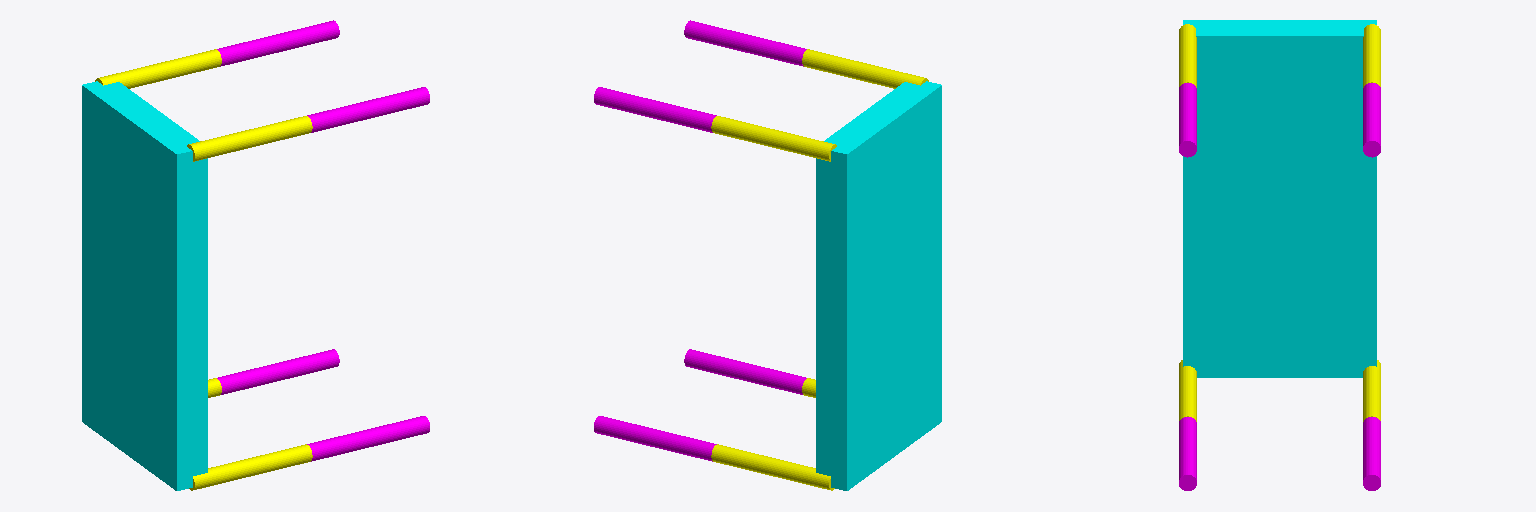
The robot description file, URDF, robot "2_R_robot":
<!-- [author], 20095107 -->

<robot name="2_R_robot">

<material name="blue">
   <color rgba="0 0 0.8 1"/>
</material>
<material name="black">
   <color rgba="0 0 0 1"/>
</material>
<material name="white">
   <color rgba="1 1 1 1"/>
</material>
<material name="olive">
   <color rgba="128 128 0 0.9"/>
</material>
<material name="fuchsia">
   <color rgba="255 0 255 0.7"/>
</material>
<material name="aqua">
   <color rgba="0 255 255 1"/>
</material>
<material name="teal">
   <color rgba="0 128 128 1"/>
</material>

   <link name="fixed_base">
   <visual>
      <origin rpy = "0 0 0" xyz = "0 1 2"/>
      <geometry>
         <box size ="0.4 2.1 4.1" />
      </geometry>
      <material name="teal"/>
   </visual>
   </link>
   
   <link name="link_1">
      <!-- <axis xyz="0 0 1"/> -->
      <visual>
         <origin rpy="0 1.57 0" xyz="0.75 0 0"/>
         <geometry>
            <cylinder radius="0.1" length="1.5"/>
         </geometry>
         <material name="olive"/>         
      </visual>
   </link>       
   
   <joint name="Revolute_joint_1" type="revolute">
      <visual>
         <material name="blue"/>
      </visual>
      <axis xyz="0 1 0"/>
      <limit effort="1000.0" lower="-1.22" upper="1.22" velocity="0.5"/>
      <origin rpy="0 0 0" xyz="0 0 0" />
      <parent link="fixed_base"/>
      <child link="link_1"/>
   </joint>

   <link name="link_2">
      <!-- <axis xyz="0 0 1"/> -->
      <visual>
         <origin rpy="0 1.57 0" xyz="0.75 0 0"/>
         <geometry>
            <cylinder radius="0.1" length="1.5"/>
         </geometry>
         <material name="fuchsia"/>         
      </visual>
   </link> 

   <joint name="Revolute_joint_2" type="revolute">
      <visual>
         <material name="blue"/>
      </visual>
      <axis xyz="0 1 0"/>
      <limit effort="1000.0" lower="0" upper="1.57" velocity="0.5"/>
      <origin rpy="0 0 0" xyz="1.5 0 0" />
      <parent link="link_1"/>
      <child link="link_2"/>
   </joint>

<!-- ............................................................................ -->

   <link name="link_3">
      <!-- <axis xyz="0 0 1"/> -->
      <visual>
         <origin rpy="0 1.57 0" xyz="0.75 0 0"/>
         <geometry>
            <cylinder radius="0.1" length="1.5"/>
         </geometry>
         <material name="olive"/>         
      </visual>
   </link>       
   
   <joint name="Revolute_joint_3" type="revolute">
      <visual>
         <material name="blue"/>
      </visual>
      <axis xyz="0 1 0"/>
      <limit effort="1000.0" lower="-1.22" upper="1.22" velocity="0.5"/>
      <origin rpy="0 0 0" xyz="0 0 4" />
      <parent link="fixed_base"/>
      <child link="link_3"/>
   </joint>

   <link name="link_4">
      <!-- <axis xyz="0 0 1"/> -->
      <visual>
         <origin rpy="0 1.57 0" xyz="0.75 0 0"/>
         <geometry>
            <cylinder radius="0.1" length="1.5"/>
         </geometry>
         <material name="fuchsia"/>         
      </visual>
   </link> 

   <joint name="Revolute_joint_4" type="revolute">
      <visual>
         <material name="blue"/>
      </visual>
      <axis xyz="0 1 0"/>
      <limit effort="1000.0" lower="0" upper="1.57" velocity="0.5"/>
      <origin rpy="0 0 0" xyz="1.5 0 0" />
      <parent link="link_3"/>
      <child link="link_4"/>
   </joint>
<!-- .................................................................................. -->
   
   <link name="link_5">
      <!-- <axis xyz="0 0 1"/> -->
      <visual>
         <origin rpy="0 1.57 0" xyz="0.75 0 0"/>
         <geometry>
            <cylinder radius="0.1" length="1.5"/>
         </geometry>
         <material name="olive"/>         
      </visual>
   </link>       
   
   <joint name="Revolute_joint_5" type="revolute">
      <visual>
         <material name="blue"/>
      </visual>
      <axis xyz="0 1 0"/>
      <limit effort="1000.0" lower="-1.22" upper="1.22" velocity="0.5"/>
      <origin rpy="0 0 0" xyz="0 2 0" />
      <parent link="fixed_base"/>
      <child link="link_5"/>
   </joint>

   <link name="link_6">
      <!-- <axis xyz="0 0 1"/> -->
      <visual>
         <origin rpy="0 1.57 0" xyz="0.75 0 0"/>
         <geometry>
            <cylinder radius="0.1" length="1.5"/>
         </geometry>
         <material name="fuchsia"/>         
      </visual>
   </link> 

   <joint name="Revolute_joint_6" type="revolute">
      <visual>
         <material name="blue"/>
      </visual>
      <axis xyz="0 1 0"/>
      <limit effort="1000.0" lower="0" upper="1.57" velocity="0.5"/>
      <origin rpy="0 0 0" xyz="1.5 0 0" />
      <parent link="link_5"/>
      <child link="link_6"/>
   </joint>

<!-- ............................................................................ -->

   <link name="link_7">
      <!-- <axis xyz="0 0 1"/> -->
      <visual>
         <origin rpy="0 1.57 0" xyz="0.75 0 0"/>
         <geometry>
            <cylinder radius="0.1" length="1.5"/>
         </geometry>
         <material name="olive"/>         
      </visual>
   </link>       
   
   <joint name="Revolute_joint_7" type="revolute">
      <visual>
         <material name="blue"/>
      </visual>
      <axis xyz="0 1 0"/>
      <limit effort="1000.0" lower="-1.22" upper="1.22" velocity="0.5"/>
      <origin rpy="0 0 0" xyz="0 2 4" />
      <parent link="fixed_base"/>
      <child link="link_7"/>
   </joint>

   <link name="link_8">
      <!-- <axis xyz="0 0 1"/> -->
      <visual>
         <origin rpy="0 1.57 0" xyz="0.75 0 0"/>
         <geometry>
            <cylinder radius="0.1" length="1.5"/>
         </geometry>
         <material name="fuchsia"/>         
      </visual>
   </link> 

   <joint name="Revolute_joint_8" type="revolute">
      <visual>
         <material name="blue"/>
      </visual>
      <axis xyz="0 1 0"/>
      <limit effort="1000.0" lower="0" upper="1.57" velocity="0.5"/>
      <origin rpy="0 0 0" xyz="1.5 0 0" />
      <parent link="link_7"/>
      <child link="link_8"/>
   </joint>
<!-- .................................................................................. -->
  
</robot>

--- Render facts (derived) ---
3 views of the same robot in one strip: view 1: azimuth 30°, elevation 25°; view 2: azimuth 150°, elevation 25°; view 3: azimuth 270°, elevation 25° (orthographic).
Robot: 2_R_robot — 9 links, 8 joints (8 revolute); root link fixed_base; default pose: every joint at zero.
Links seen in each view (by area): view 1: fixed_base, link_3, link_4, link_8, link_6, link_2, link_1, link_7; view 2: fixed_base, link_7, link_8, link_4, link_2, link_6, link_5, link_3; view 3: fixed_base, link_4, link_8, link_2, link_6, link_3, link_7, link_1, link_5.
Boxes of the visible links, x1,y1,x2,y2 form: fixed_base: (82, 81, 207, 490); link_3: (187, 116, 312, 161); link_4: (307, 87, 429, 132); link_8: (217, 20, 339, 66); link_6: (217, 349, 339, 394); link_2: (307, 416, 429, 461); link_1: (189, 444, 312, 490); link_7: (95, 49, 221, 88); fixed_base: (816, 81, 941, 490); link_7: (711, 116, 836, 161); link_8: (594, 87, 716, 132); link_4: (684, 20, 806, 66); link_2: (684, 349, 806, 394); link_6: (594, 416, 716, 461); link_5: (711, 444, 834, 490); link_3: (802, 49, 928, 88); fixed_base: (1183, 20, 1376, 377); link_4: (1179, 83, 1196, 157); link_8: (1363, 83, 1380, 157); link_2: (1179, 417, 1196, 490); link_6: (1363, 417, 1380, 490); link_3: (1179, 24, 1196, 87); link_7: (1363, 24, 1380, 87); link_1: (1179, 360, 1196, 421); link_5: (1363, 360, 1380, 421).
Bounding box of the posed robot: 3.2 × 2.2 × 4.2 m (x, y, z).
Geometry: primitives only (box / cylinder / sphere), no mesh files.
